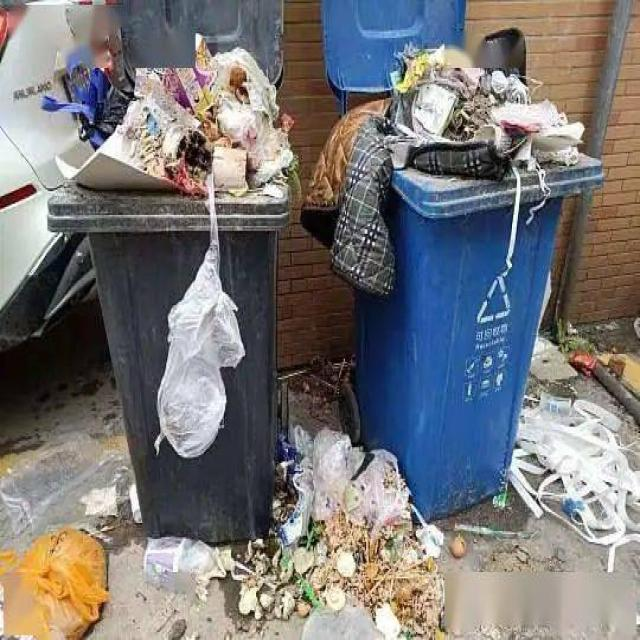garbage: (141, 423, 465, 637), (492, 386, 639, 572), (1, 524, 107, 638)
overflow: (299, 25, 603, 520), (40, 32, 289, 542)
